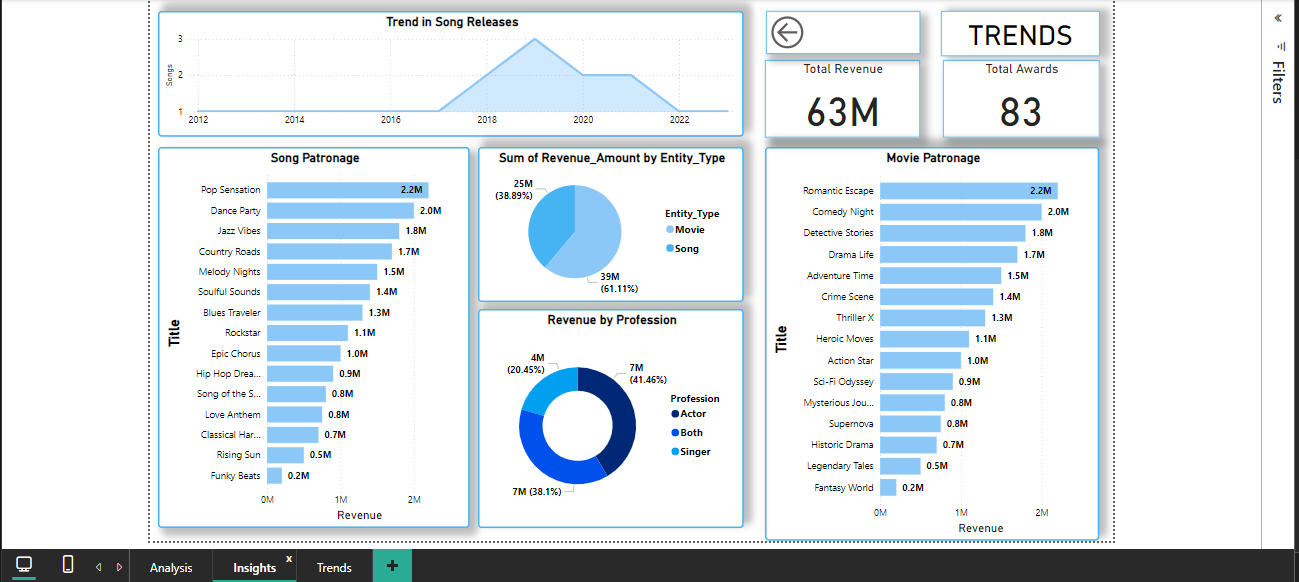

The dashboard page shown, as its layout file describes it:
{"tool":"powerbi","page":{"name":"Insights","canvas":[1280,720],"ordinal":1},"visuals":[{"type":"clusteredBarChart","title":"Song Patronage","fields":{"Category":["songs.Title"],"Y":["Sum(success.Revenue_Generated)"]},"box":[10.5,197.2,413.8,506.4],"z":0},{"type":"barChart","title":"Movie Patronage","fields":{"Category":["movies.Title"],"Y":["Sum(success.Revenue_Generated)"]},"box":[817.1,197.2,443.7,522.8],"z":1000},{"type":"areaChart","title":"Trend in Song Releases","fields":{"Category":["songs.Release_Year"],"Y":["CountNonNull(songs.Song_ID)"]},"box":[10.5,16.4,778.3,167.3],"z":2000},{"type":"donutChart","title":"Revenue by Profession","fields":{"Category":["People.Profession"],"Y":["Sum(success.Revenue_Generated)"]},"box":[436.2,412.3,352.5,291.3],"z":3000},{"type":"pieChart","fields":{"Category":["revenue.Entity_Type"],"Y":["Sum(revenue.Revenue_Amount)"]},"box":[436.2,197.2,352.5,206.1],"z":4000},{"type":"card","title":"Total Awards","fields":{"Values":["Sum(success.Total_Awards)"]},"box":[1053.1,80.7,207.6,103.1],"z":5000},{"type":"card","title":"Total Revenue","fields":{"Values":["Sum(revenue.Revenue_Amount)"]},"box":[817.1,80.7,206.1,103.1],"z":6000},{"type":"actionButton","box":[818.6,16.4,204.6,56.8],"z":9000},{"type":"actionButton","box":[1050.1,16.4,210.6,59.8],"z":10000}]}

Visuals, with their boxes on the page's 1280x720 design canvas (x1, y1, x2, y2). These are canvas units, not pixel positions in the 1299x582 screenshot, which may show the page scaled, cropped or inside an application window:
"Song Patronage" clusteredBarChart: BBox(10, 197, 424, 704)
"Movie Patronage" barChart: BBox(817, 197, 1261, 720)
"Trend in Song Releases" areaChart: BBox(10, 16, 789, 184)
"Revenue by Profession" donutChart: BBox(436, 412, 789, 704)
pieChart - revenue.Entity_Type x Sum(revenue.Revenue_Amount): BBox(436, 197, 789, 403)
"Total Awards" card: BBox(1053, 81, 1261, 184)
"Total Revenue" card: BBox(817, 81, 1023, 184)
actionButton: BBox(819, 16, 1023, 73)
actionButton: BBox(1050, 16, 1261, 76)
